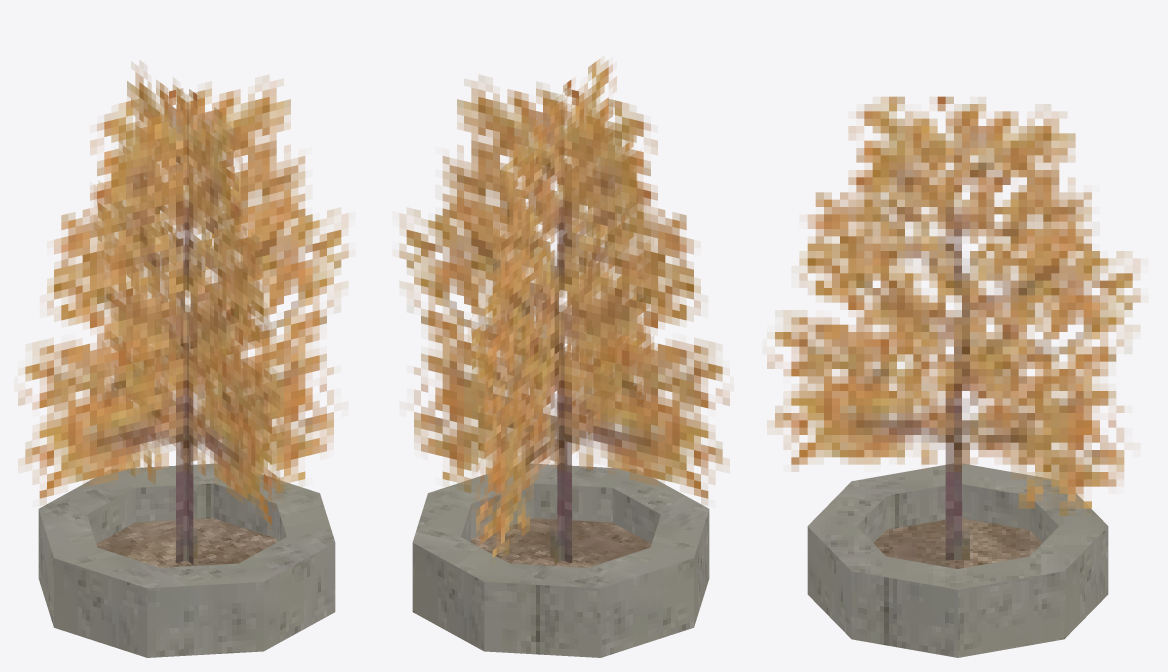
Rendered from tree-park-large.glb.
The picture shows the model from 3 angles, left to right: view 1: azimuth 30°, elevation 25°; view 2: azimuth 150°, elevation 25°; view 3: azimuth 270°, elevation 25°; orthographic projection. The views are drawn at different scales.
Parts seen in each view (by area): view 1: tree-park-large; view 2: tree-park-large; view 3: tree-park-large.
Boxes of the visible parts, x1,y1,x2,y2 form: tree-park-large: (18,61,348,657); tree-park-large: (399,57,729,657); tree-park-large: (767,96,1140,657).
Size of the model in its own units: 1.04 by 1.46 by 1.04.
Materials: 3 (3 with a texture image).
